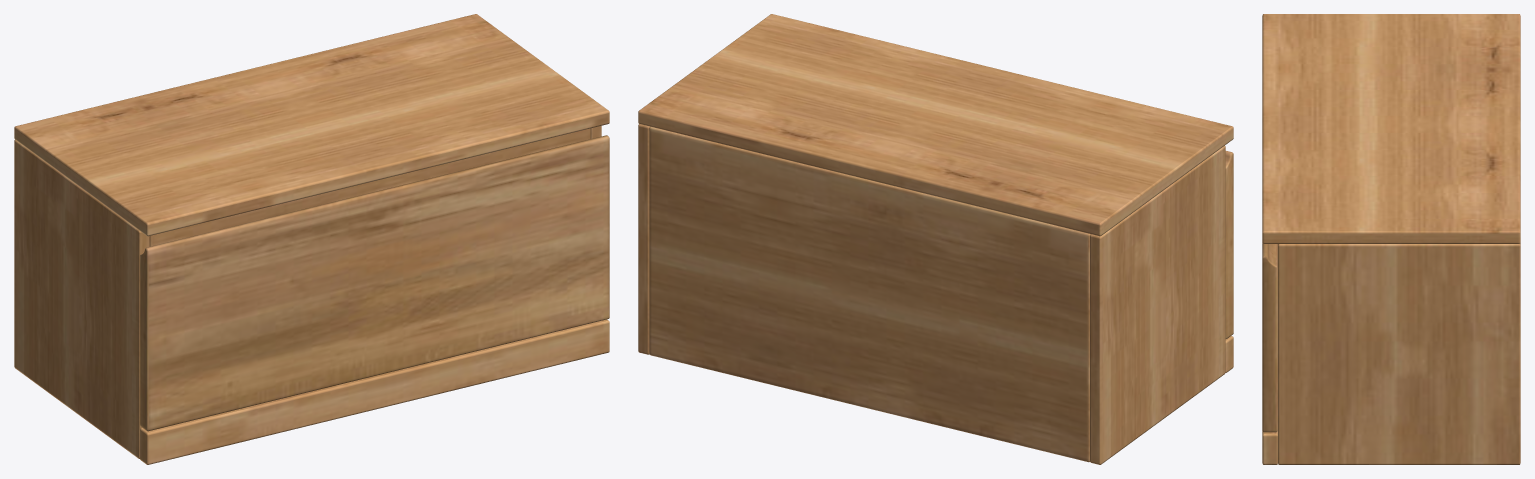
The model's file is B07K7YMBNY.glb.
3 renders of one model, left to right at view 1: azimuth 30°, elevation 25°; view 2: azimuth 150°, elevation 25°; view 3: azimuth 270°, elevation 25°, orthographic. The views are drawn at different scales.
Parts seen in each view (by area): view 1: B07K7YMBNY; view 2: B07K7YMBNY; view 3: B07K7YMBNY.
Part boxes in pixels (x1=…): B07K7YMBNY: x1=14, y1=14, x2=609, y2=464; B07K7YMBNY: x1=638, y1=14, x2=1233, y2=464; B07K7YMBNY: x1=1262, y1=14, x2=1520, y2=464.
Size of the model in its own units: 0.7999 by 0.3998 by 0.3998.
1 material, 1 textured.
